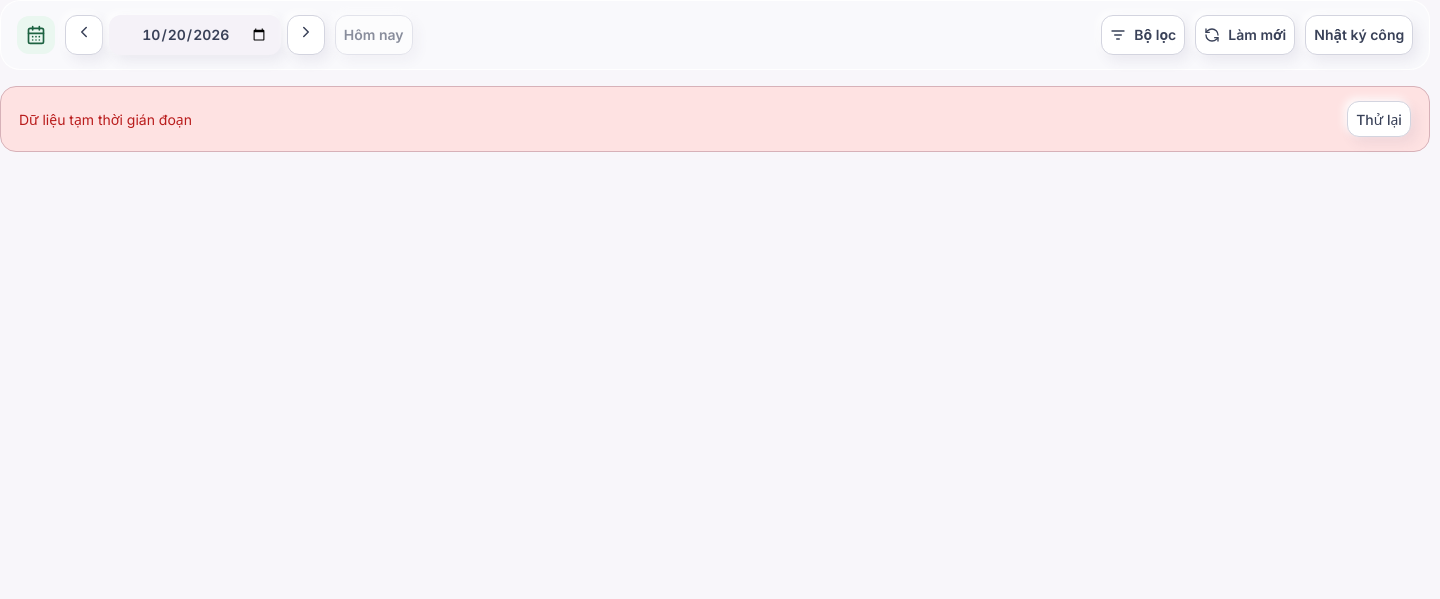
Test: HR daily attendance photo workstation › recovers a failed data read through the visible retry action
The width and height of the screenshot is (1440, 599).
expect the message shows "Dữ liệu tạm thời gián đoạn": met, box x1=19 y1=110 x2=192 y2=128
Click the button "Thử lại". click: x=1379, y=119
box: x1=1347 y1=101 x2=1411 y2=137
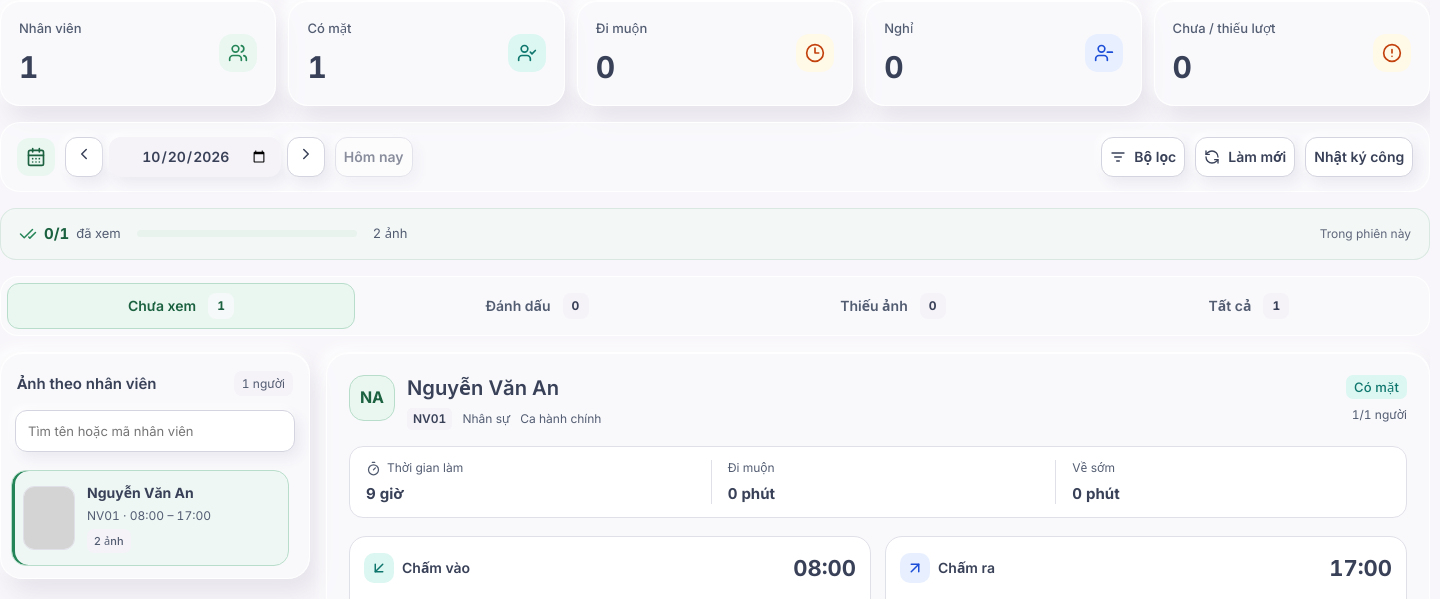
expect the heading "Nguyễn Văn An" is shown: met, box x1=407 y1=375 x2=559 y2=400
expect the message "Dữ liệu tạm thời gián đoạn Thử lại" is gone: met
